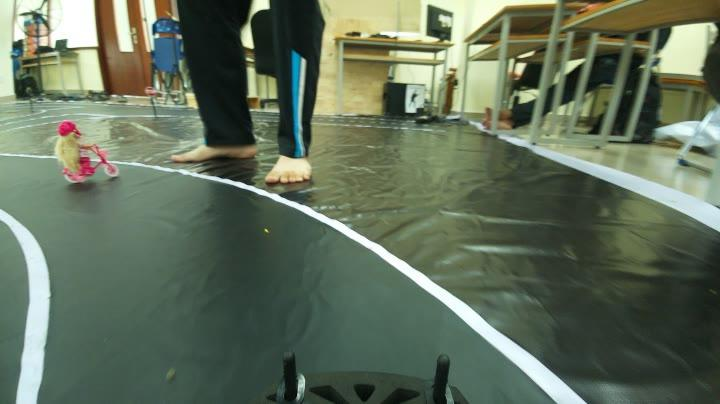pedestrian: (40, 121, 136, 187)
